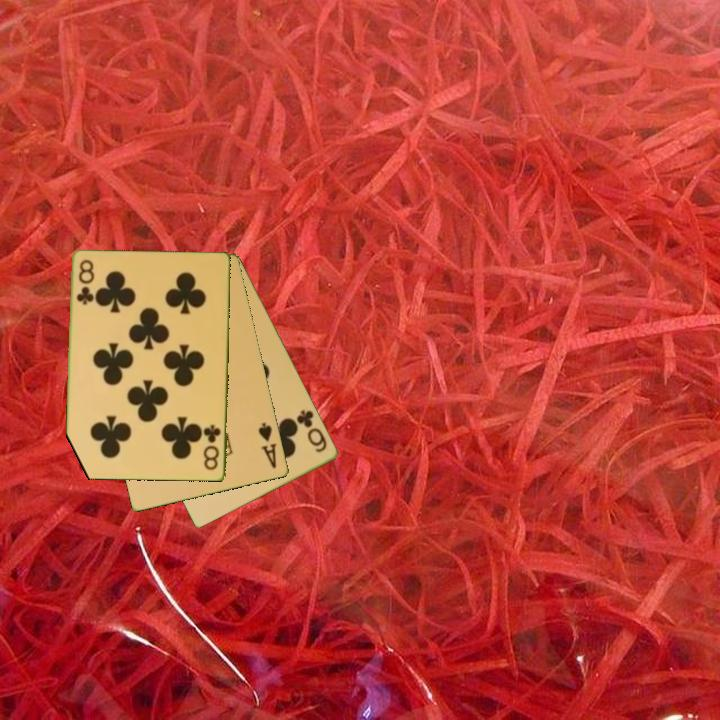6c: (293, 406, 330, 456)
8c: (201, 422, 224, 473), (73, 256, 95, 308)
As: (255, 419, 280, 472)
